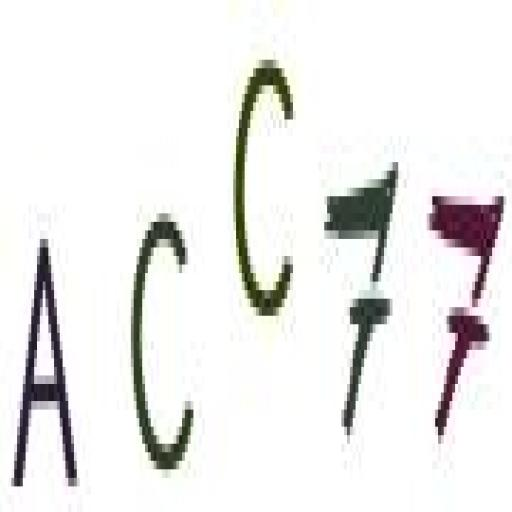7: (317, 157, 410, 460), (421, 168, 507, 456)
A: (9, 224, 82, 501)
C: (224, 38, 301, 360), (123, 190, 202, 486)
